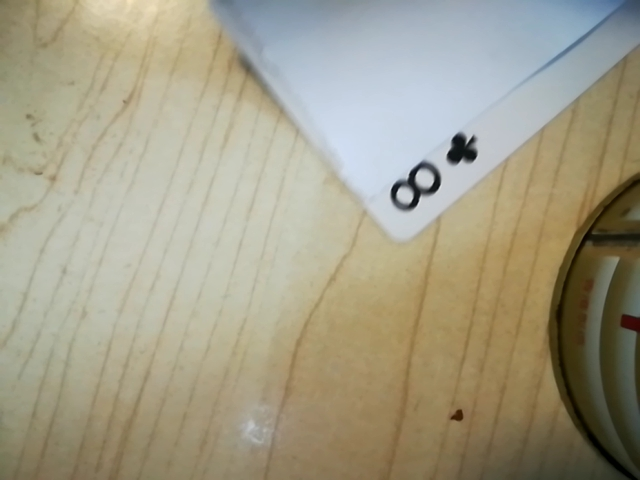mh 8: (377, 125, 493, 227)
